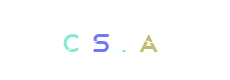9: (75, 0, 155, 80)
A: (108, 0, 188, 80)
C: (35, 0, 115, 80)
S: (61, 0, 141, 80)
